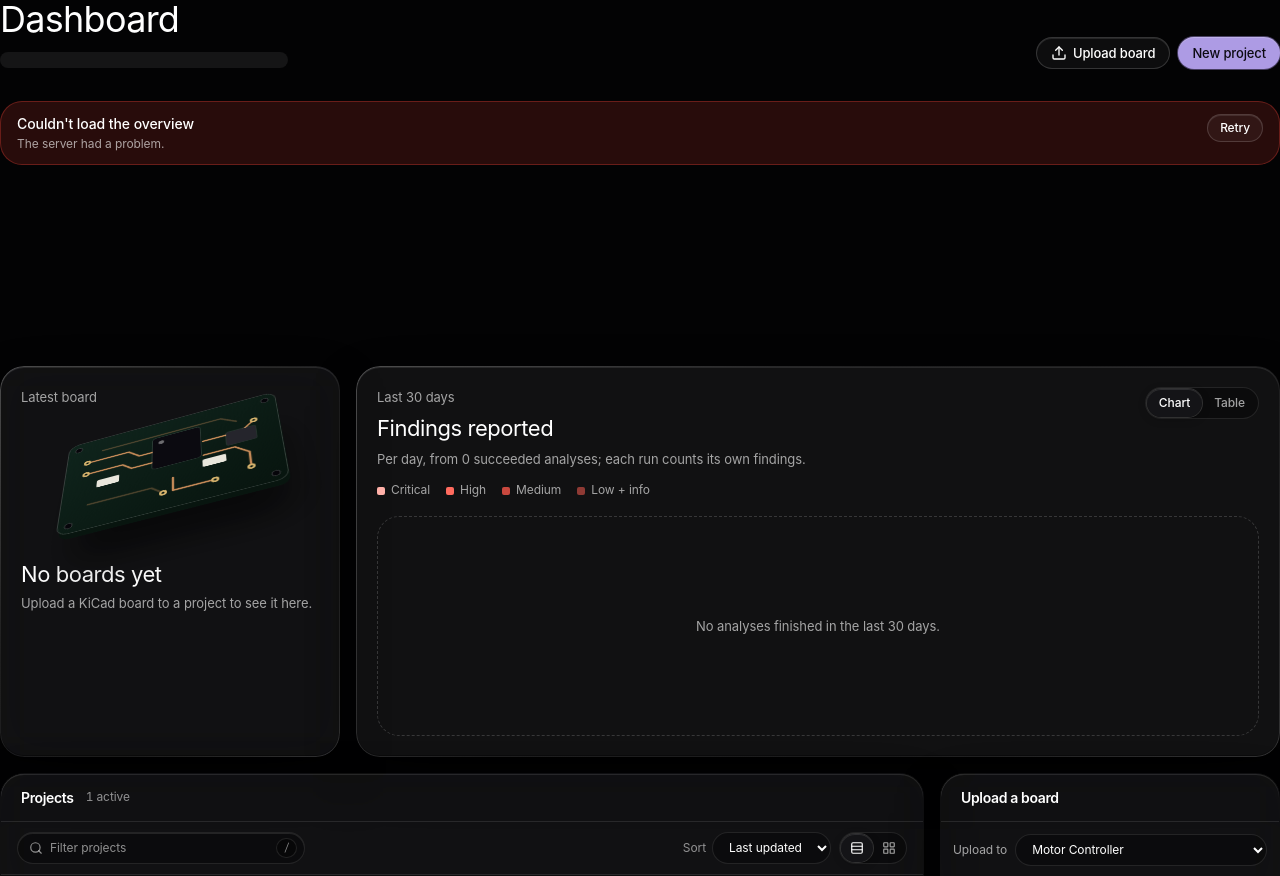
Test: Dashboard › explains a failed load and retries
Expected: the message shows "Couldn't load the overview", top-left (17, 115), bottom-right (194, 132)
Click the button "Retry" at (1235,128), box top-left (1207, 114), bottom-right (1263, 142)
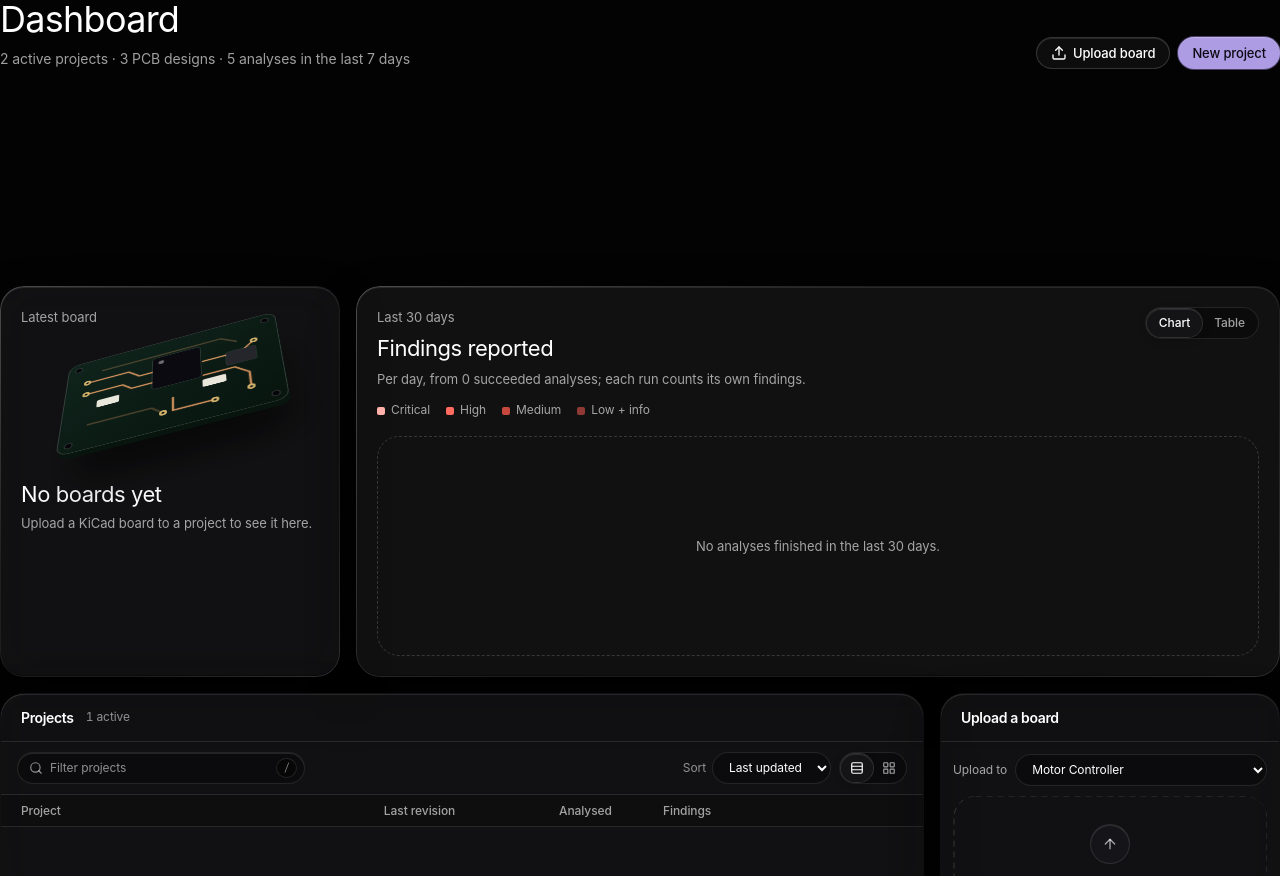
Result: the text "Couldn't load the overview" is gone
